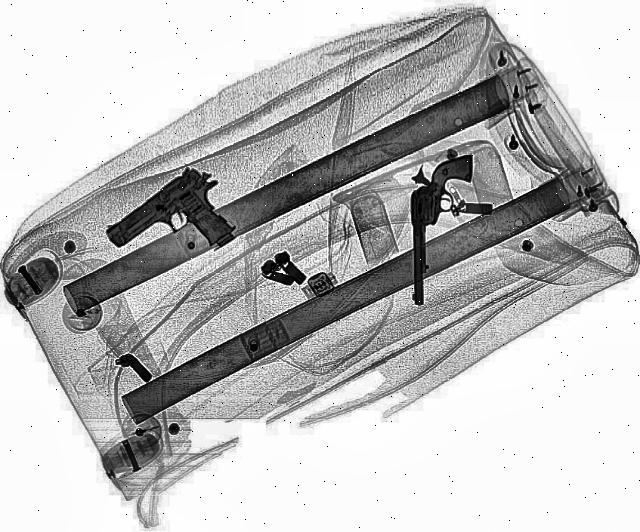Gun: (96, 162, 264, 288), (408, 155, 472, 305)
